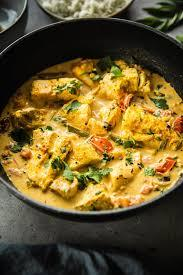Fish Curry: (1, 45, 181, 243)
